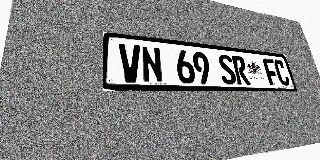6: (174, 49, 196, 84)
9: (191, 51, 213, 84)
C: (273, 59, 291, 86)
F: (262, 58, 281, 86)
N: (140, 46, 164, 83)
R: (231, 55, 251, 85)
S: (217, 54, 237, 85)
V: (119, 43, 142, 83)
